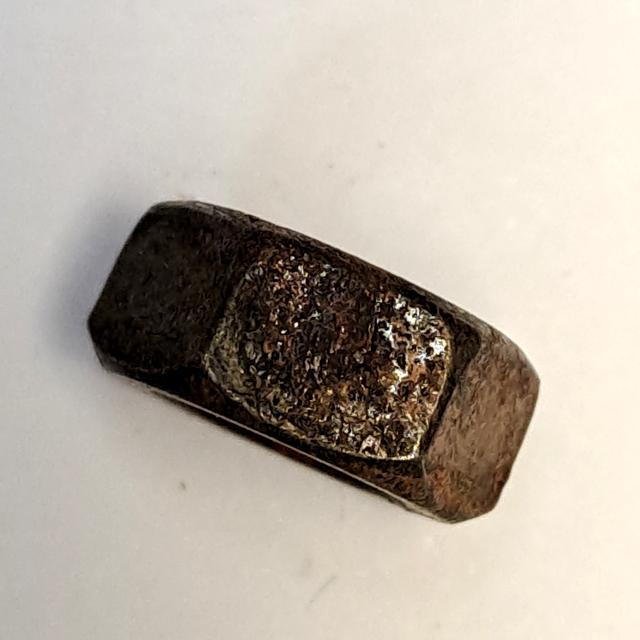Side_Rust: (70, 175, 561, 540)
